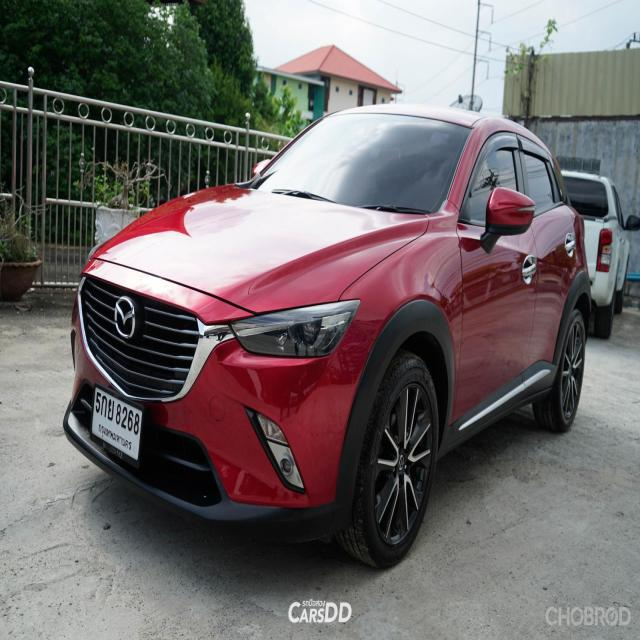license_plate: (77, 382, 152, 468)
